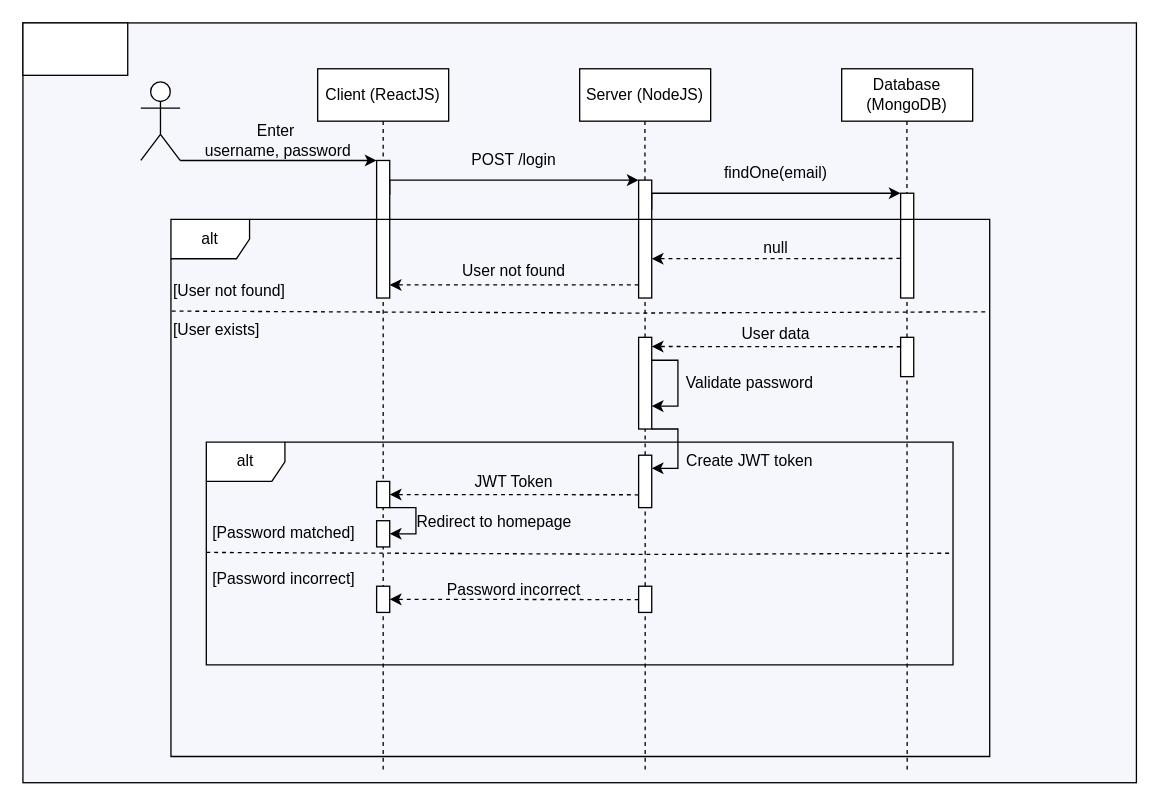
Some shapes in this 1159 by 806 pixel diagram are drawn without their labels. The centre of each missing label's shape, as x and y in pixels:
Login: the point at 75,48
User: the point at 160,120
